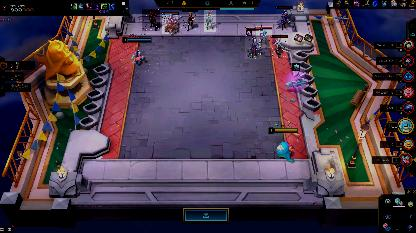1_diana: (180, 10, 198, 30)
1_karma: (204, 10, 216, 32)
1_lux: (272, 36, 288, 58)
1_nidalee: (256, 26, 272, 48)
1_sejuani: (162, 12, 178, 34)
1_sett: (142, 9, 160, 31)
1_vladimir: (245, 27, 261, 59), (276, 6, 292, 30)
